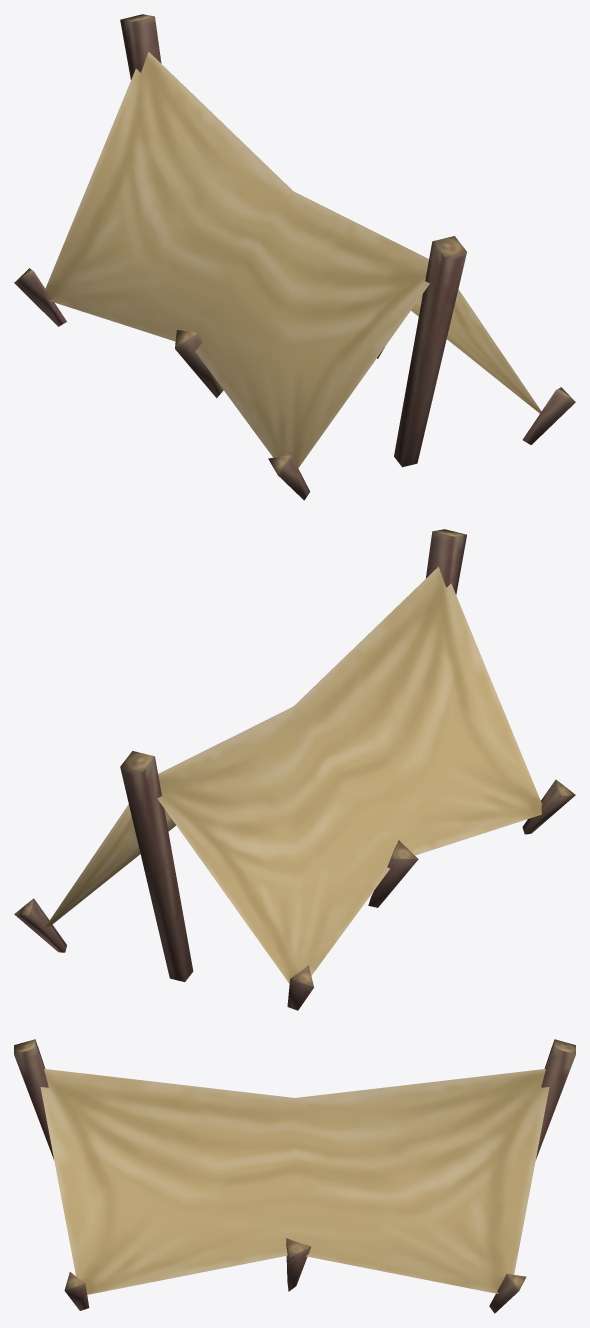
The model's file is Tent.fbx.
The picture shows the model from 3 angles, top to bottom: view 1: azimuth 30°, elevation 25°; view 2: azimuth 150°, elevation 25°; view 3: azimuth 270°, elevation 25°; orthographic projection. The views are drawn at different scales.
Visible parts, largest first — view 1: Tent; view 2: Tent; view 3: Tent.
Part boxes in pixels (x1,y1,x2,y2): Tent: (14, 14, 575, 500); Tent: (14, 529, 575, 1010); Tent: (14, 1039, 575, 1313).
Size of the model in its own units: 146 by 78.05 by 62.93.
Materials: 1 (1 with a texture image).
